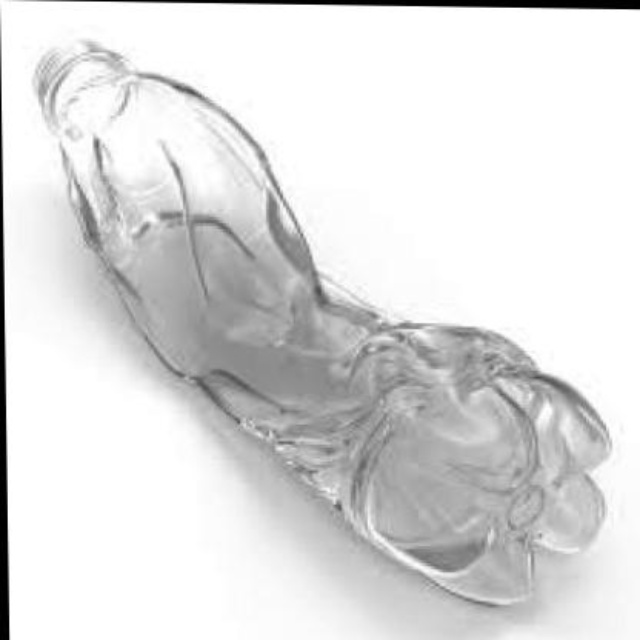trash: (35, 42, 609, 603)
